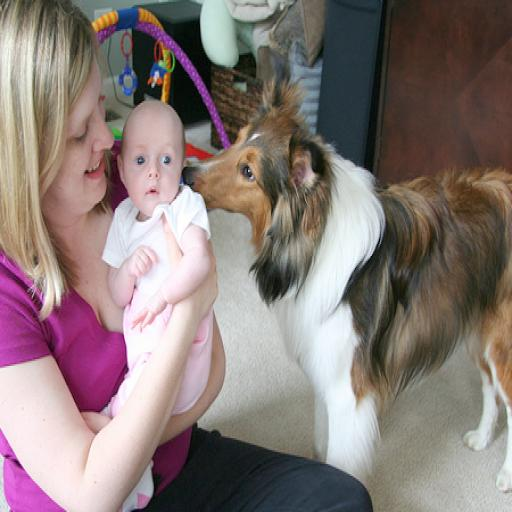dog_face: (193, 95, 329, 237)
